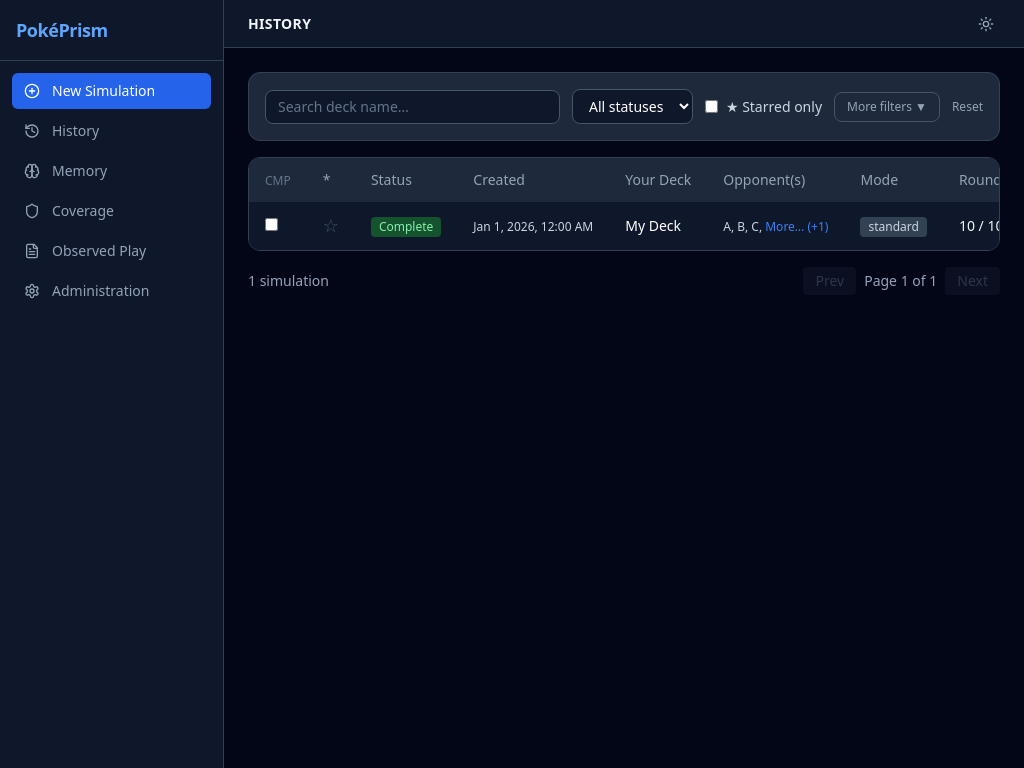
Test: History page › Escape closes the opponent deck modal
The width and height of the screenshot is (1024, 768).
Expected: the element with test id "history-table" is shown, [248,157,1000,251]
Click the button with test id "opponent-more-btn". click: (797,227)
box: [765,219,828,235]
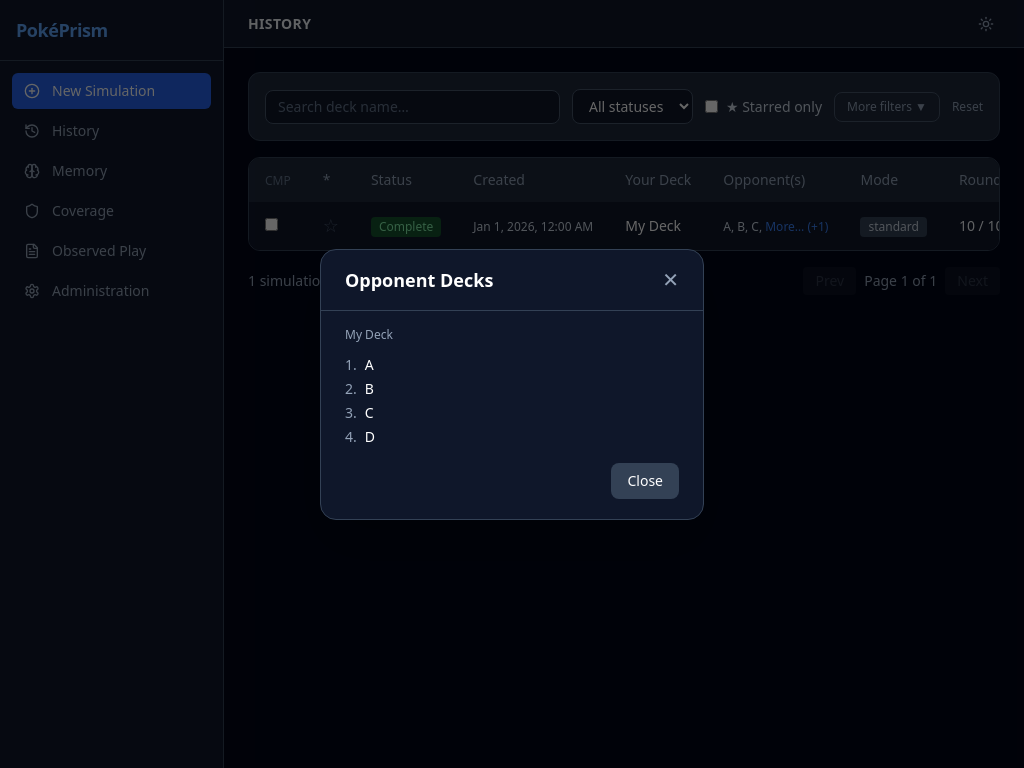
Expected: the dialog with test id "opponent-deck-modal" is shown
Press Escape
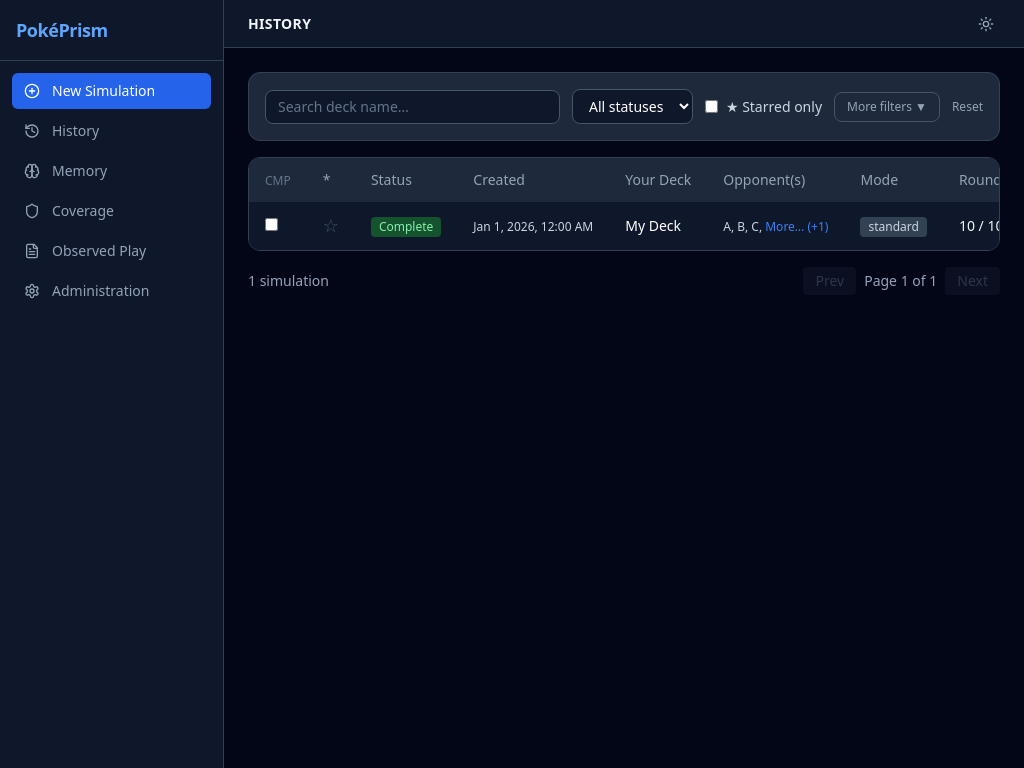
Expected: the dialog with test id "opponent-deck-modal" is gone
